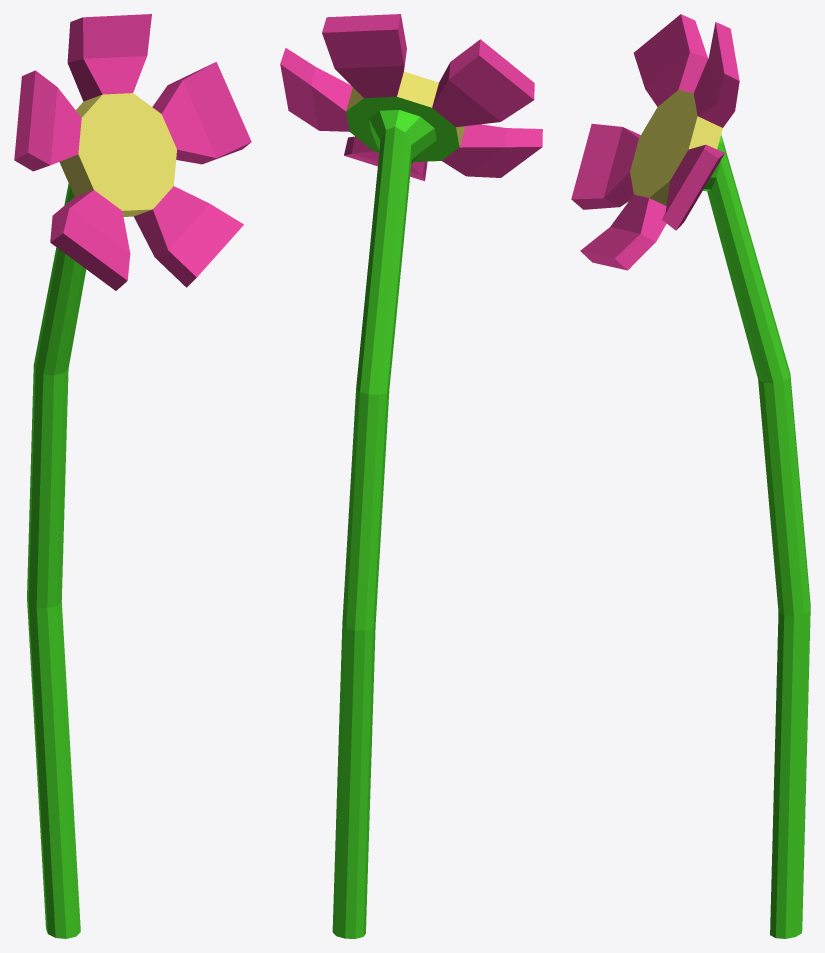
File: FlowerPink01.fbx
3 renders of one model, left to right at view 1: azimuth 30°, elevation 25°; view 2: azimuth 150°, elevation 25°; view 3: azimuth 270°, elevation 25°, orthographic. The views are drawn at different scales.
Visible parts, largest first — view 1: FlowerPink01; view 2: FlowerPink01; view 3: FlowerPink01.
Boxes of the visible parts, box(x1,y1,x2,y2) form: FlowerPink01: box(14, 14, 251, 938); FlowerPink01: box(280, 14, 542, 938); FlowerPink01: box(571, 14, 810, 938).
Bounding box in the file's own units: 52.54 × 194 × 46.5.
